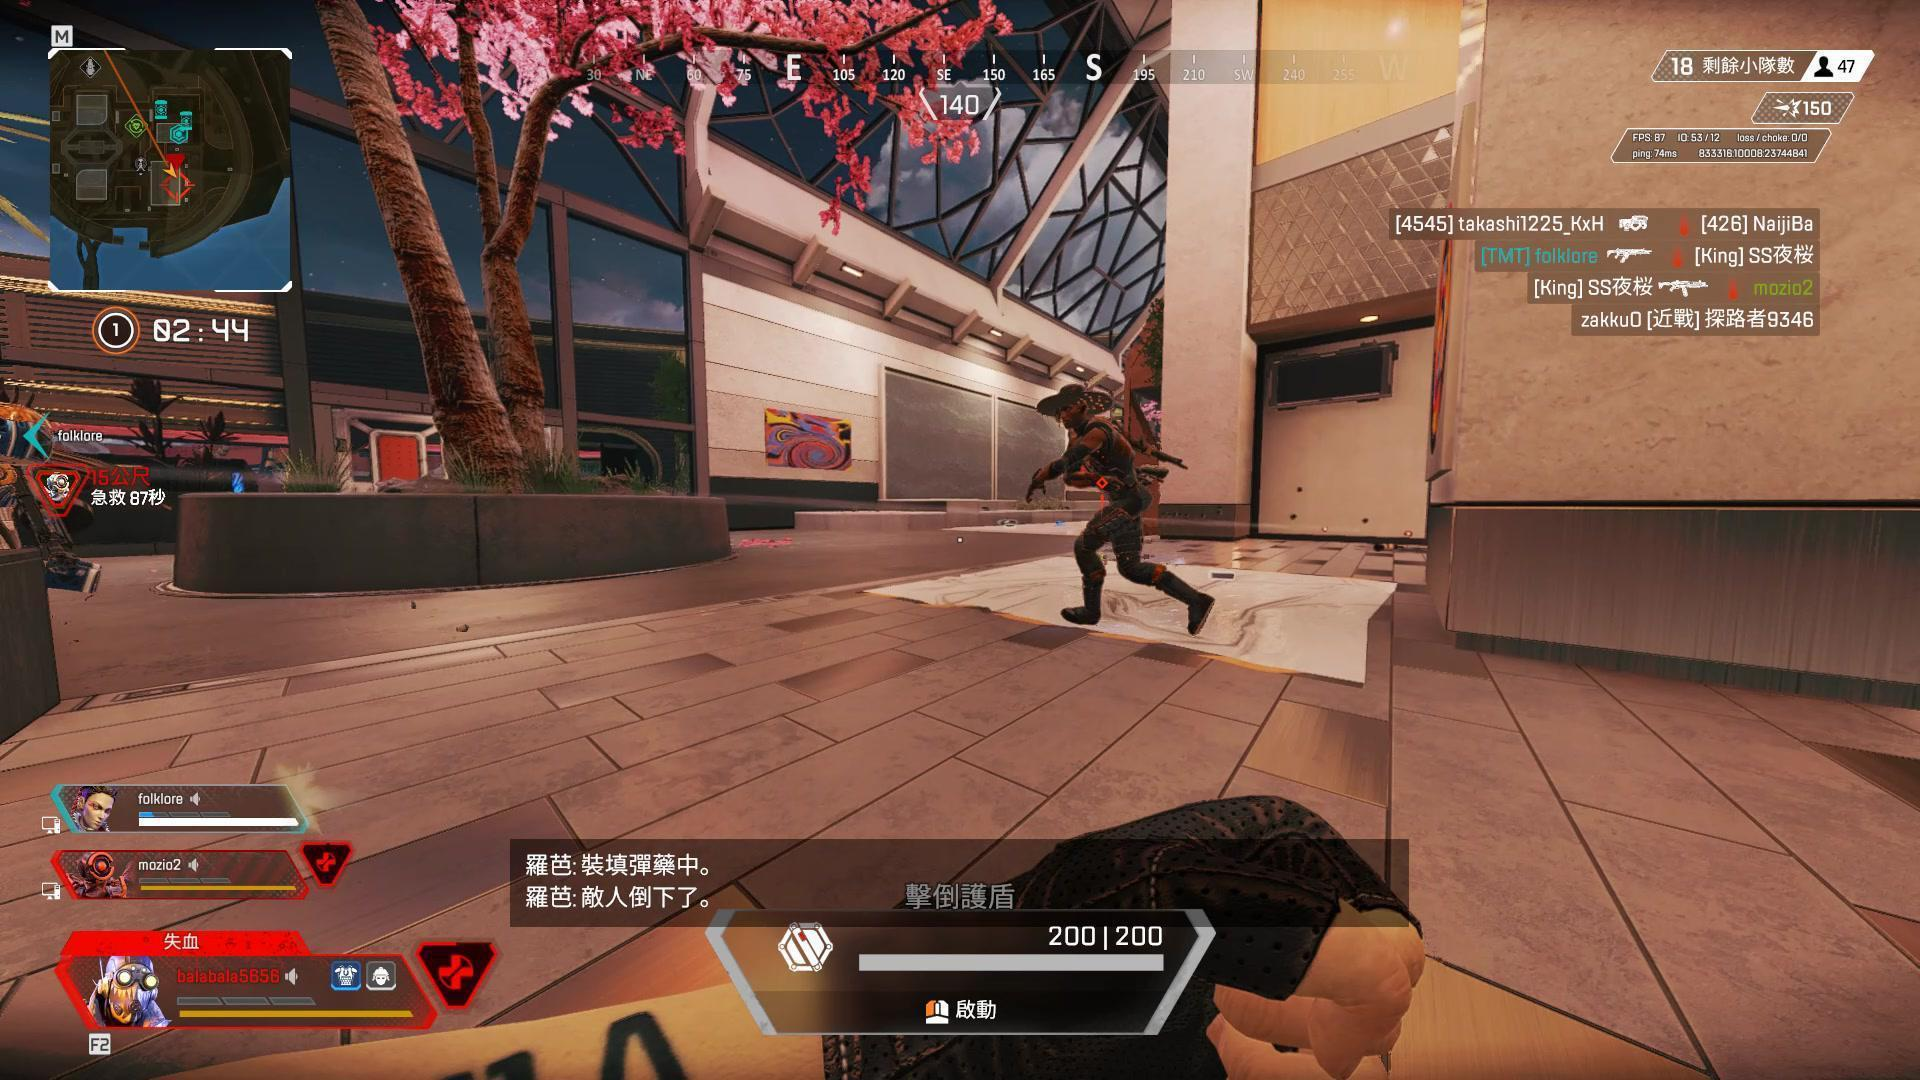avatar: (1034, 380, 1157, 631)
